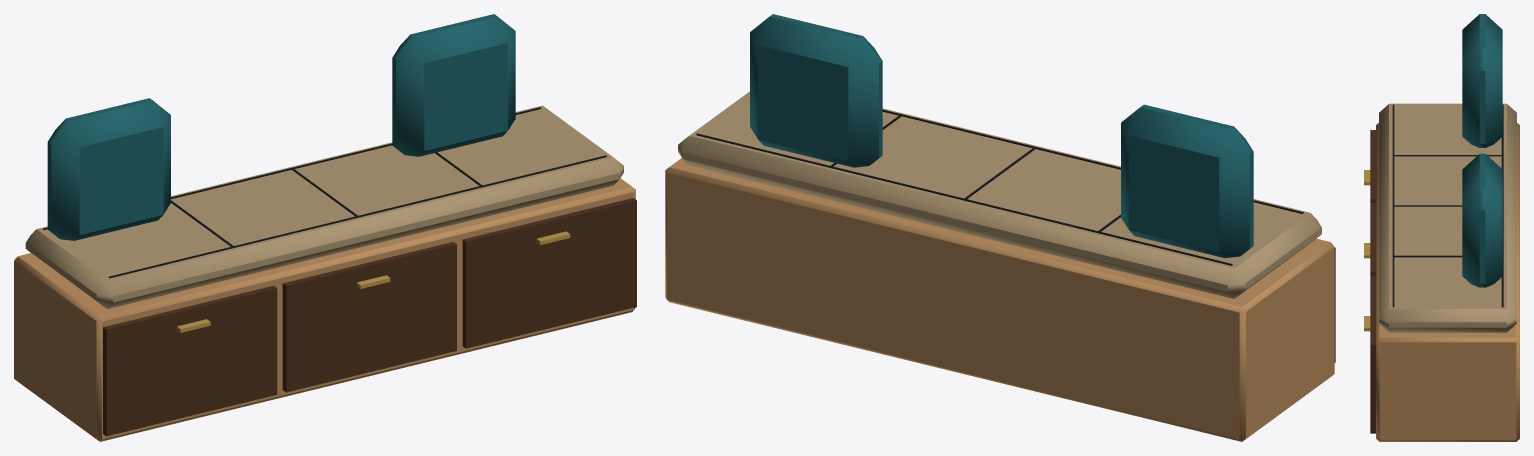
Rendered from bench_window_seat.glb.
3 views of the same model, side by side, from view 1: azimuth 30°, elevation 25°; view 2: azimuth 150°, elevation 25°; view 3: azimuth 270°, elevation 25° (orthographic). The views are drawn at different scales.
Parts seen in each view (by area): view 1: bench_window_seat; view 2: bench_window_seat; view 3: bench_window_seat.
Boxes of the visible parts, x1=… form: bench_window_seat: x1=14, y1=14, x2=636, y2=441; bench_window_seat: x1=665, y1=14, x2=1335, y2=441; bench_window_seat: x1=1364, y1=14, x2=1519, y2=441.
Bounding box in the file's own units: 1.8 × 0.86 × 0.542.
